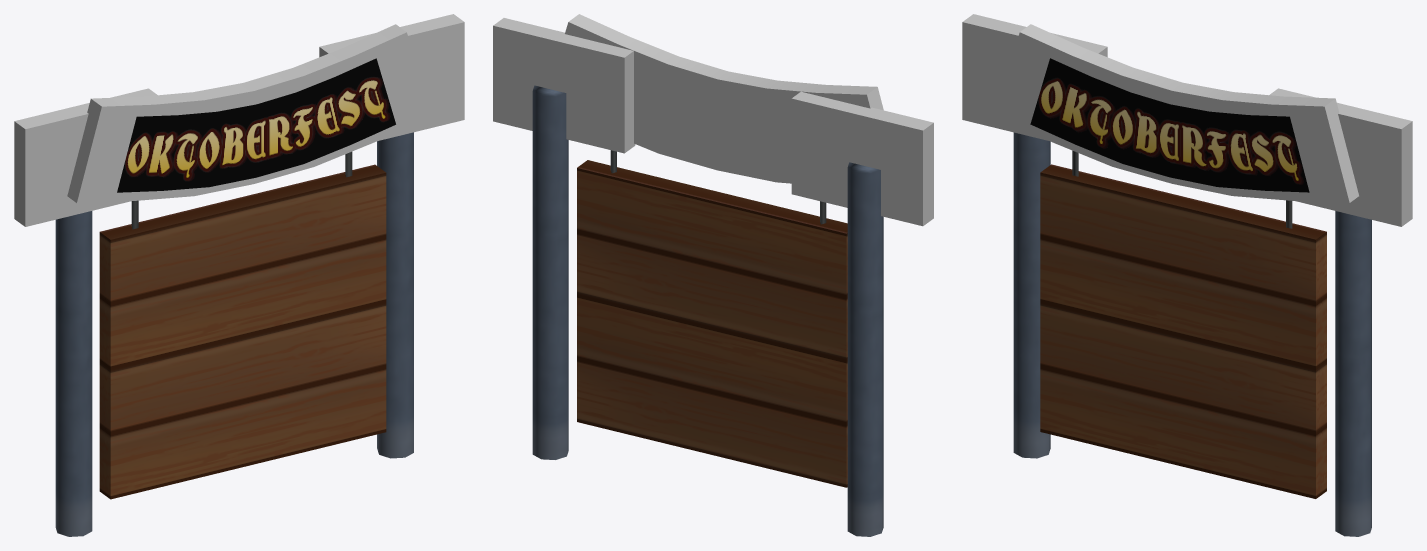
File: Signbook_Art.fbx
3 views of the same model, side by side, from view 1: azimuth 30°, elevation 25°; view 2: azimuth 150°, elevation 25°; view 3: azimuth 330°, elevation 25° (orthographic). The views are drawn at different scales.
Visible parts, largest first — view 1: Oktoberfest_Signbook; view 2: Oktoberfest_Signbook; view 3: Oktoberfest_Signbook.
Part boxes in pixels (x1,y1,x2,y2): Oktoberfest_Signbook: (14,14,464,536); Oktoberfest_Signbook: (493,14,933,536); Oktoberfest_Signbook: (962,14,1412,536).
Size of the model in its own units: 240 by 227 by 30.17.
